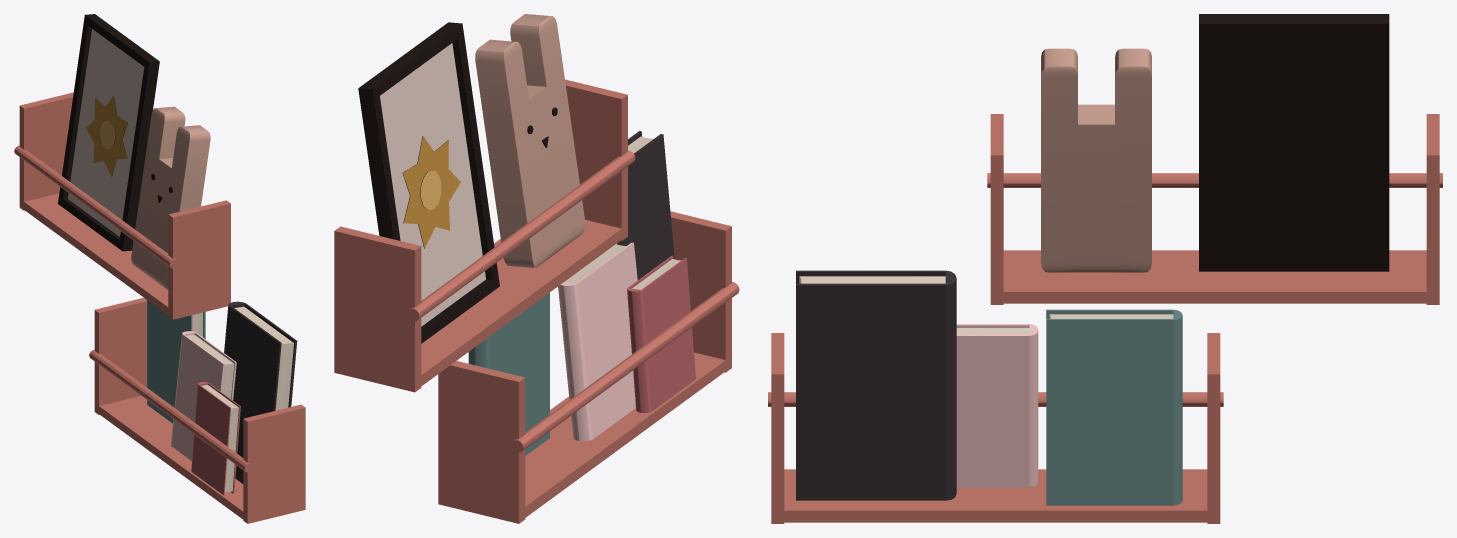
Rendered from Furn5_bookcase_right_color3.fbx.
3 views of the same model, side by side, from view 1: azimuth 30°, elevation 25°; view 2: azimuth 150°, elevation 25°; view 3: azimuth 270°, elevation 25° (orthographic). The views are drawn at different scales.
Parts seen in each view (by area): view 1: Куб.295; view 2: Куб.295; view 3: Куб.295.
Part boxes in pixels (box(x1,y1,x2,y2)): Куб.295: box(14, 14, 305, 523); Куб.295: box(334, 14, 739, 523); Куб.295: box(768, 14, 1442, 523).
Bounding box in the file's own units: 42.04 × 221 × 269.
